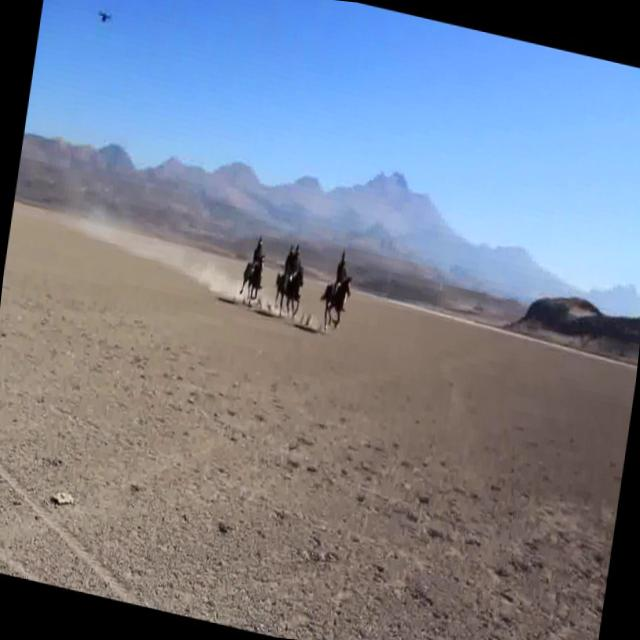drone: (90, 0, 121, 35)
